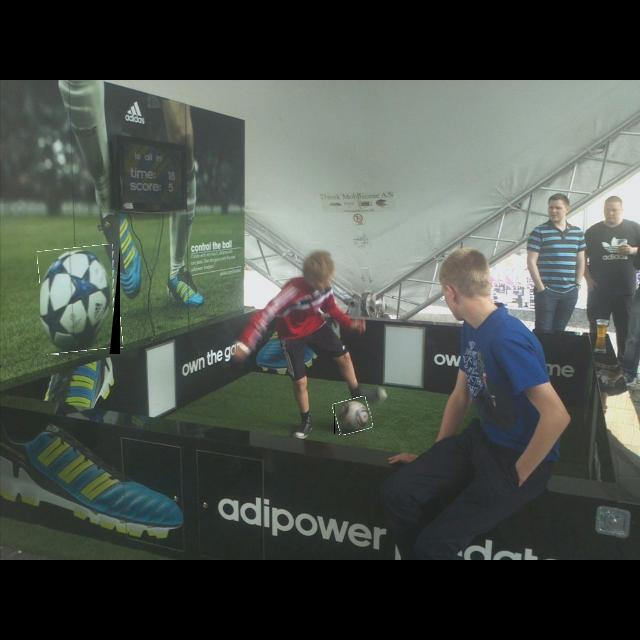Football: (40, 246, 120, 354), (334, 398, 372, 434)
